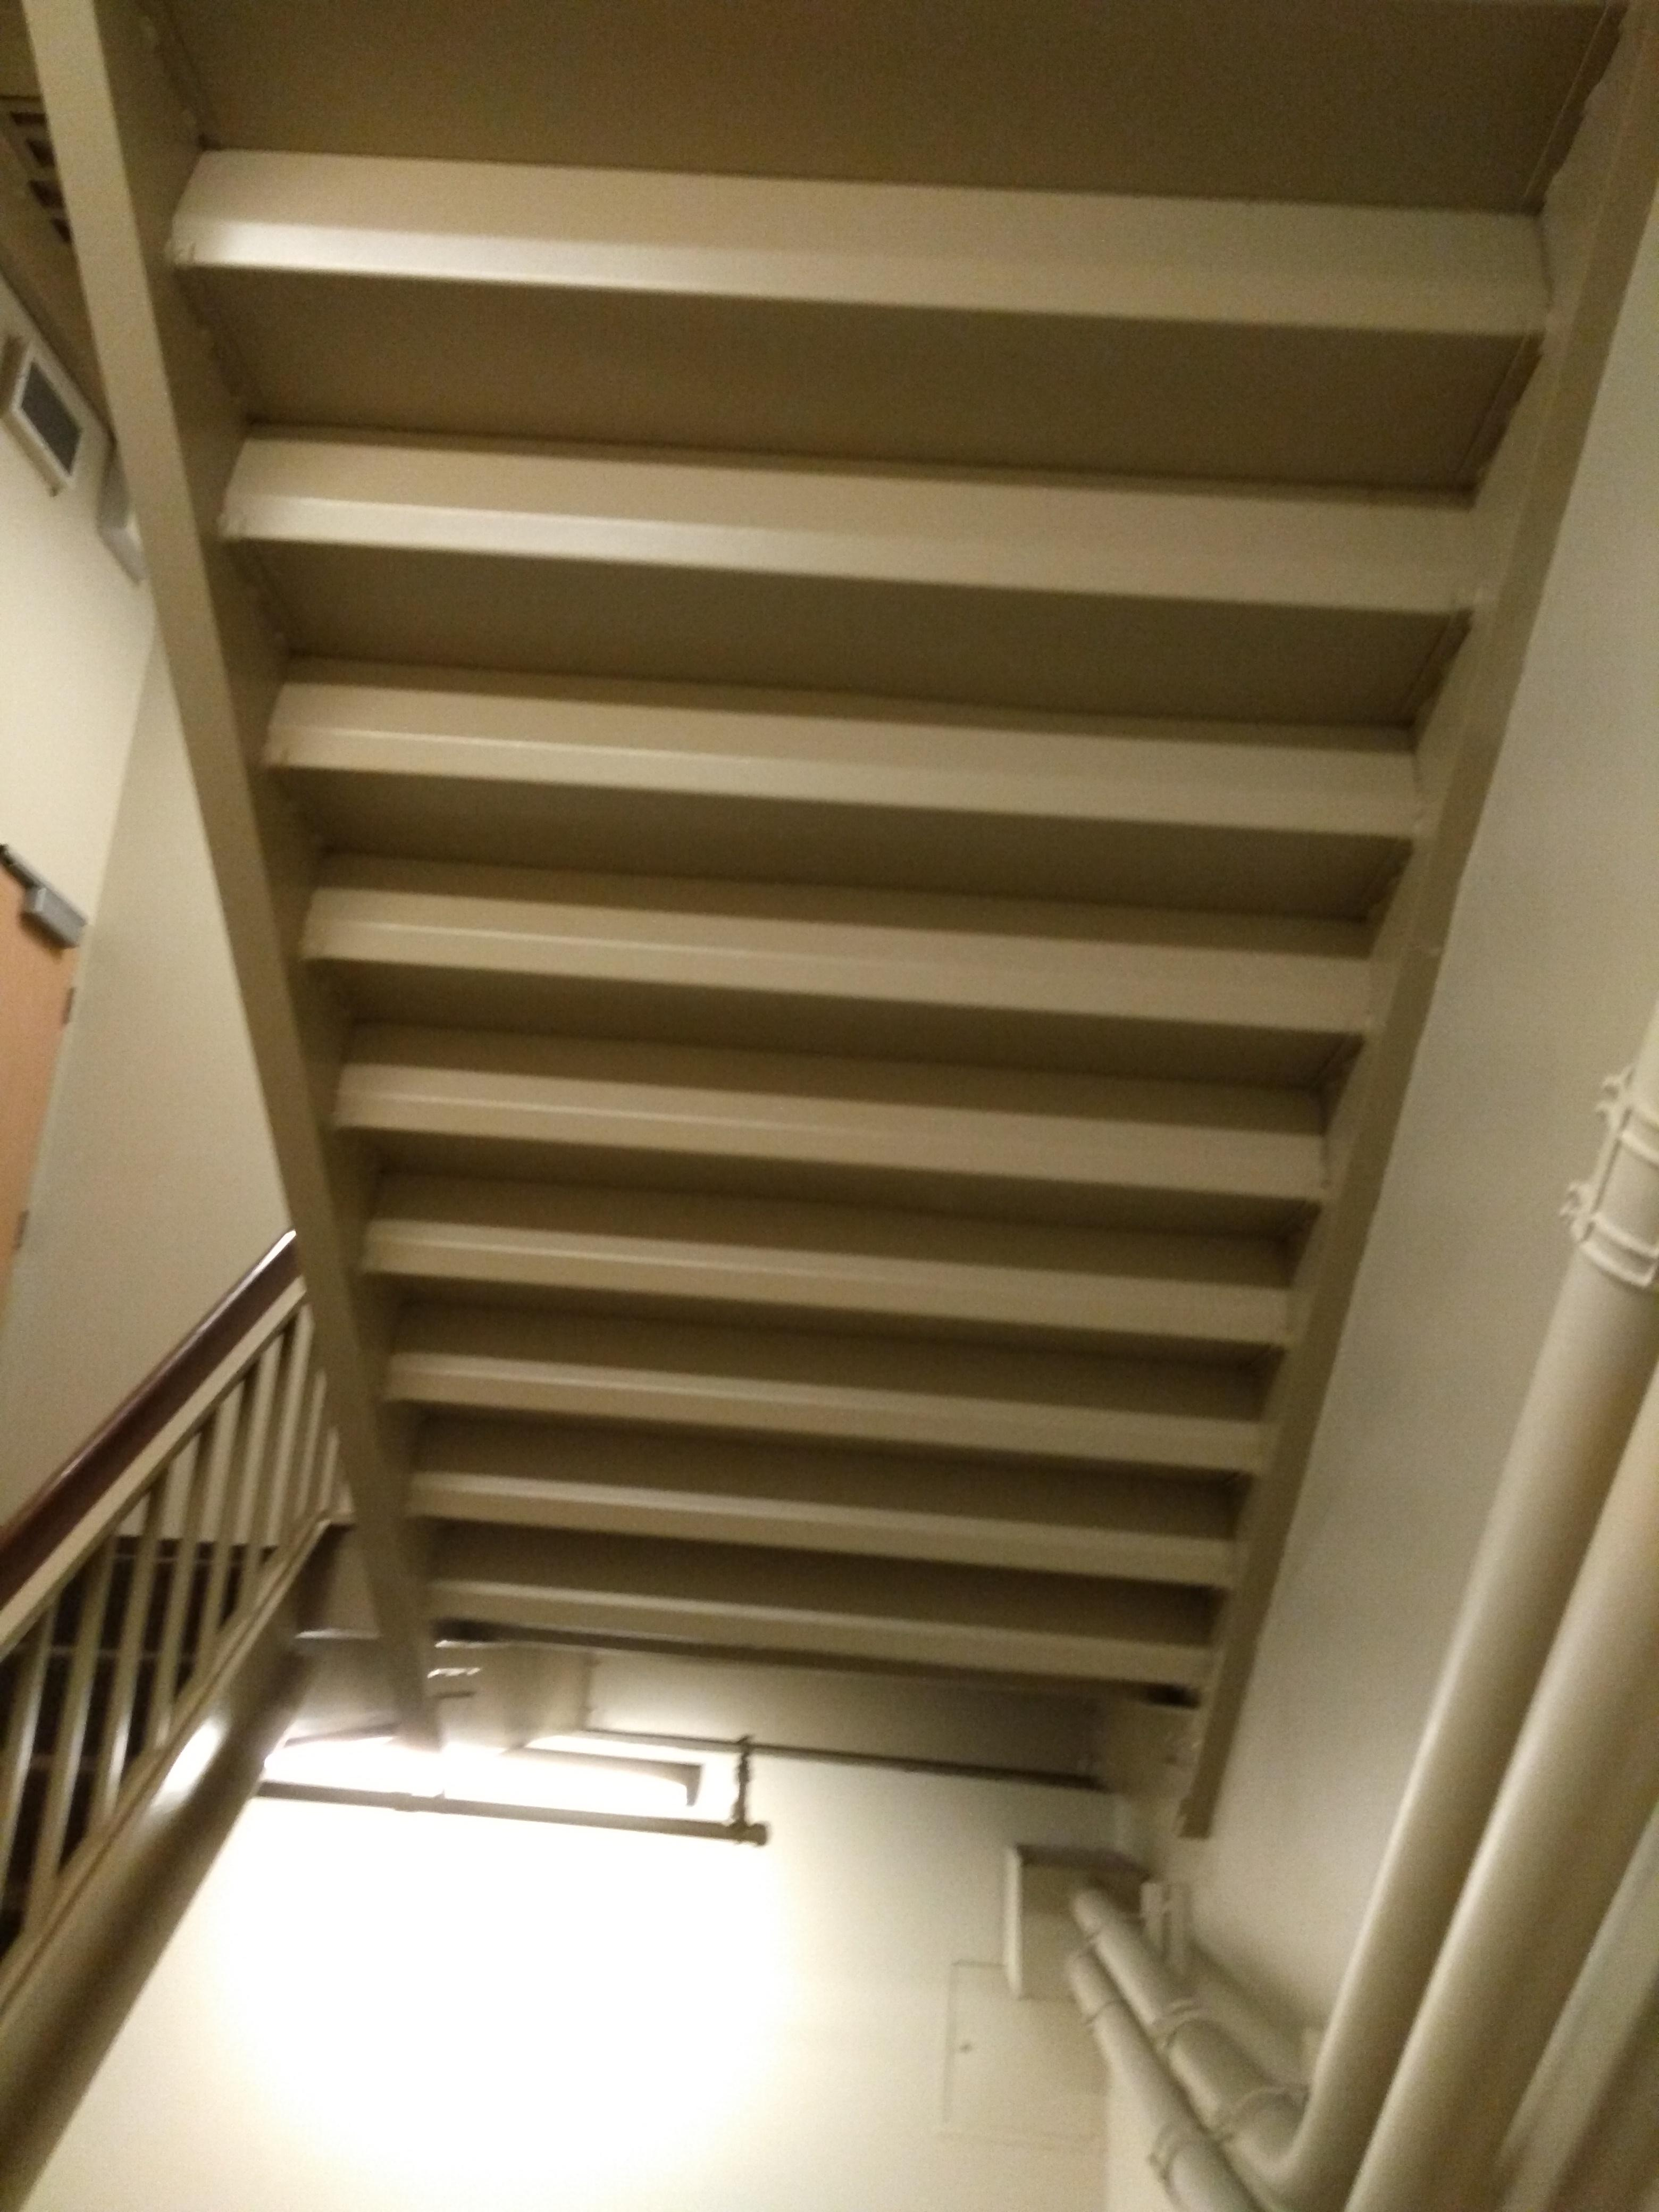staircase: (87, 111, 1312, 1834)
